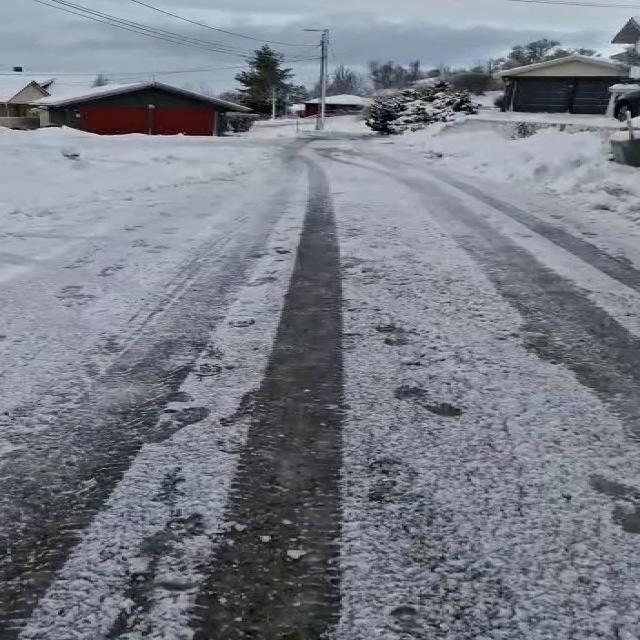path: (0, 136, 640, 640)
